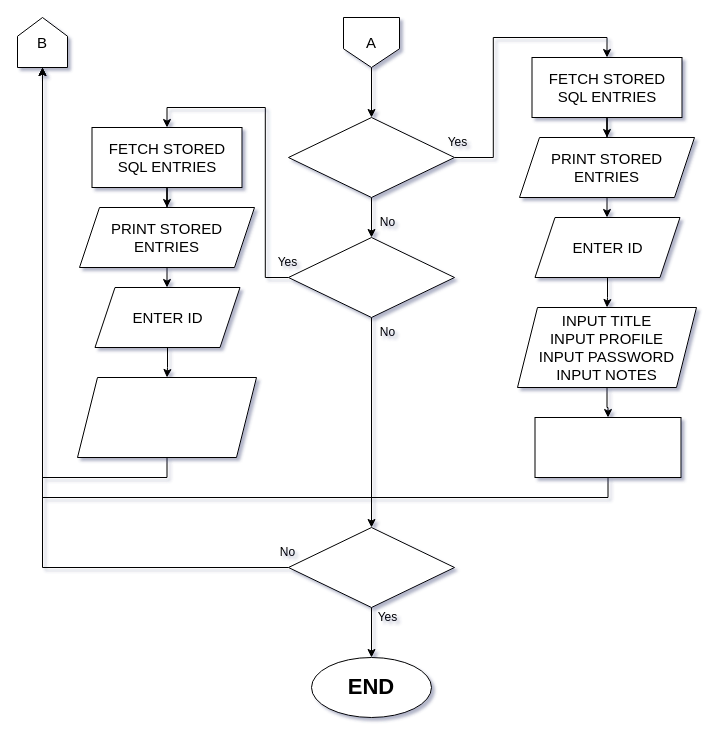
Image size: 720x741. Some labels were removed from this diagram. Each missing label, with the centre of its shape:
"DELETE ENTRY BY ID FROM SQL" goes at point (166, 417).
"ELIF CHOICE == 3" goes at point (371, 157).
"ELIF CHOICE == 4" goes at point (371, 277).
"ELIF CHOICE == 5" goes at point (371, 567).
"UPDATE SQL ENTRIES" goes at point (607, 447).
